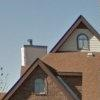Chimney: (13, 28, 50, 70)
